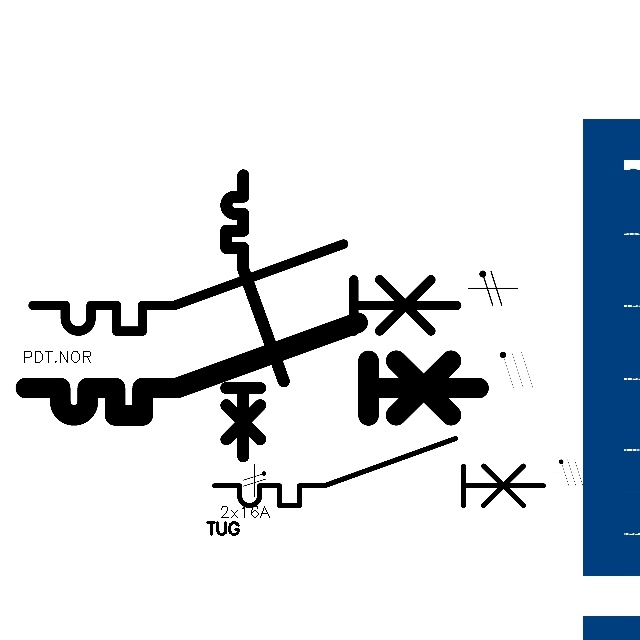interruptor_termomagnetico: (14, 311, 490, 427), (22, 233, 468, 342), (206, 430, 552, 514), (219, 168, 291, 464)
